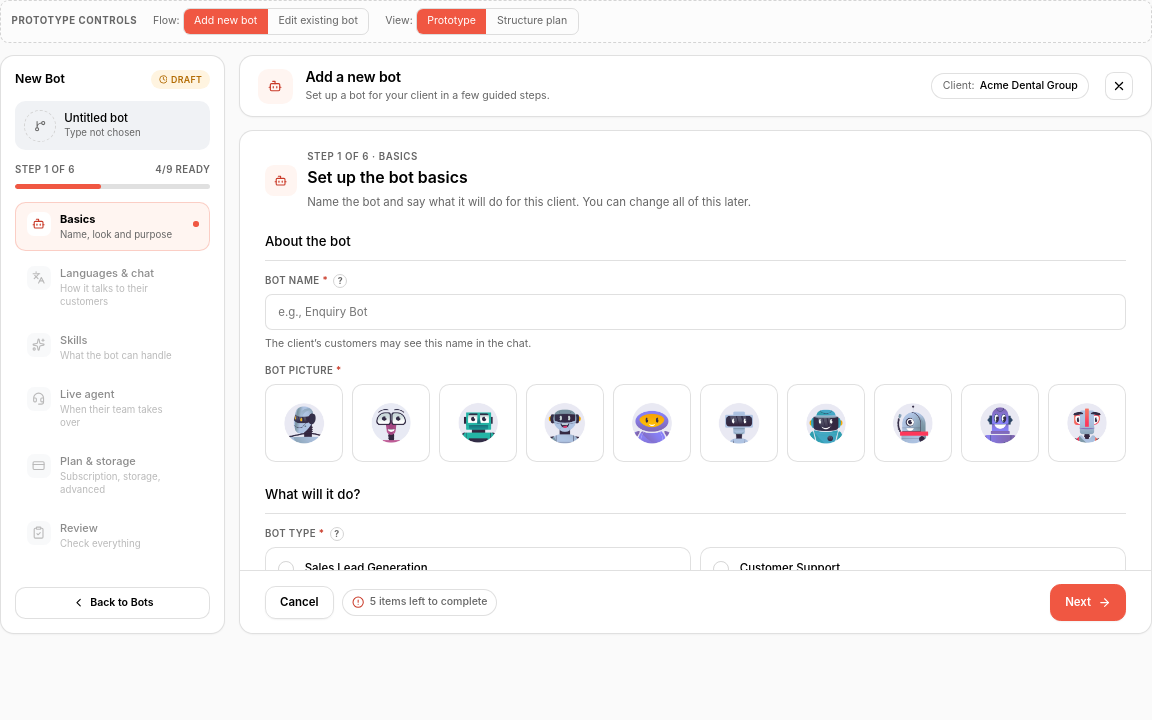
Test: wizard accessibility › asks before discarding once something was entered
Type "Draft bot" into the field with id "f-name" at (696, 312), box [265,294,1126,330]
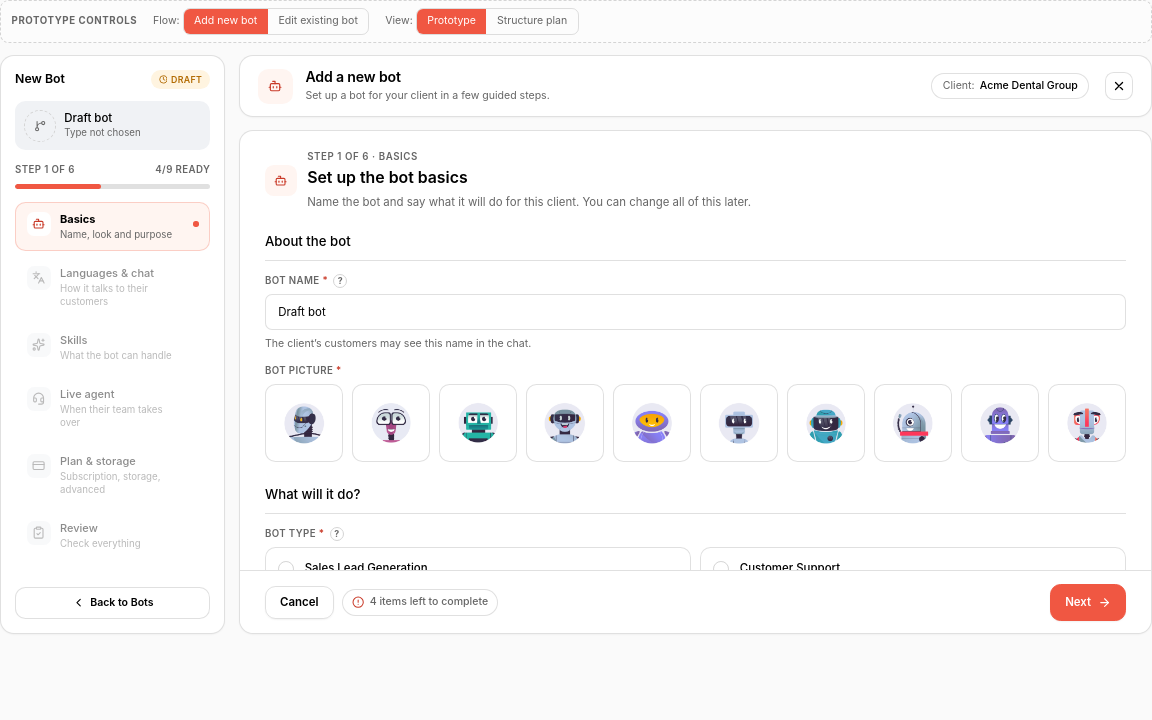
Click the button named "Close bot setup" at (1119, 86), box [1105,72,1134,100]
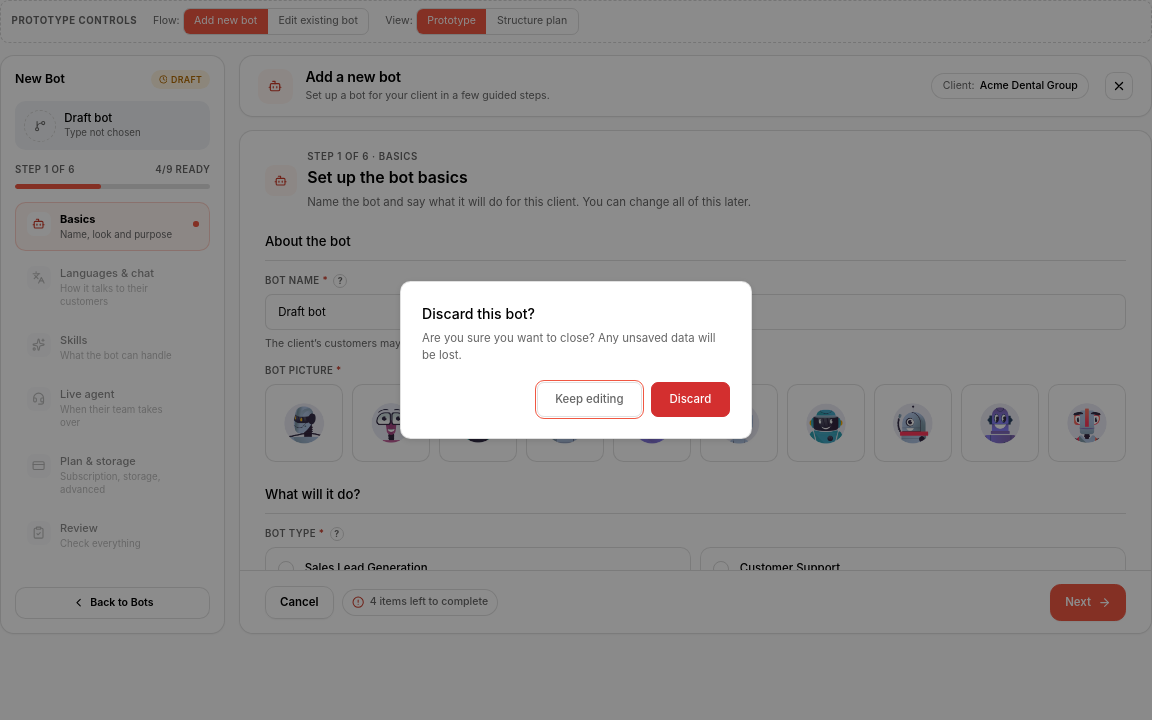
Now the dialog "Discard this bot?" is shown, box [400,281,752,439]
Press Escape
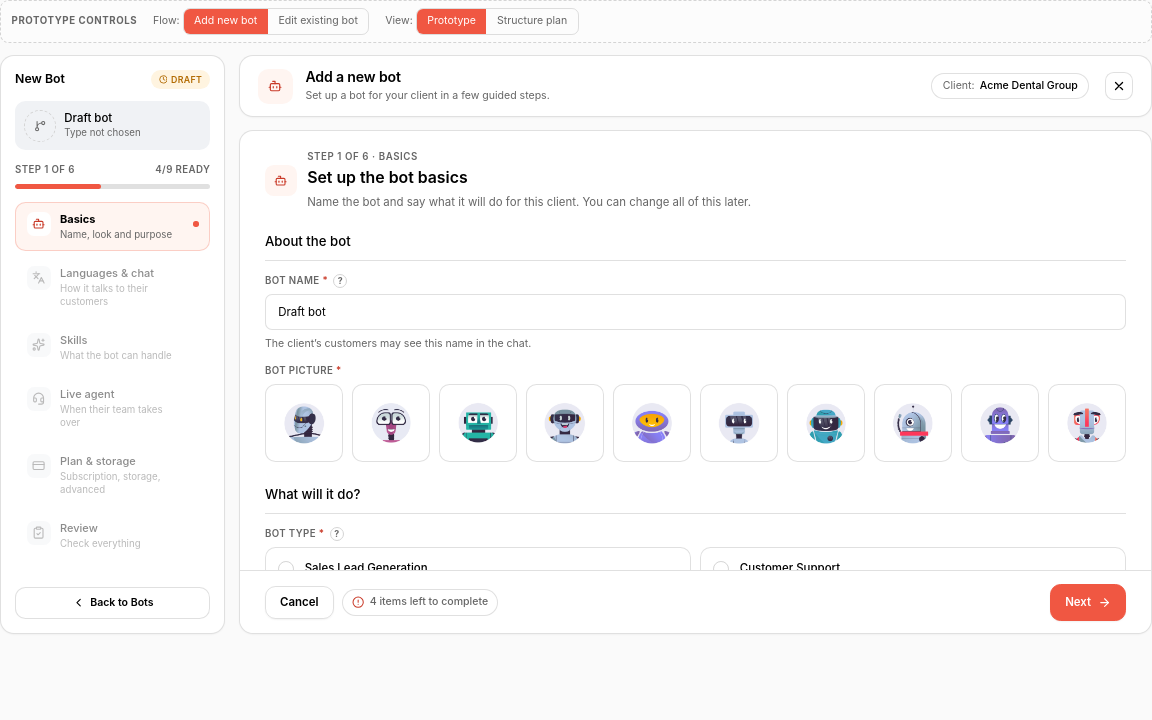
Now the dialog is gone
